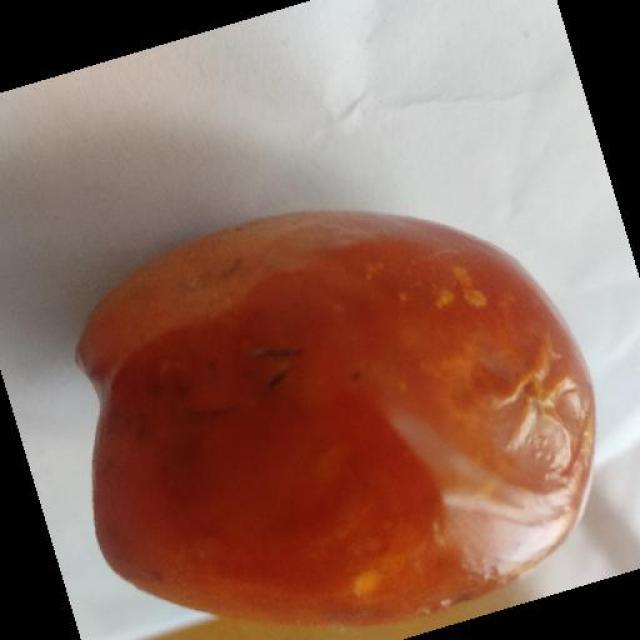Rotten Tomato: (85, 208, 598, 636)
